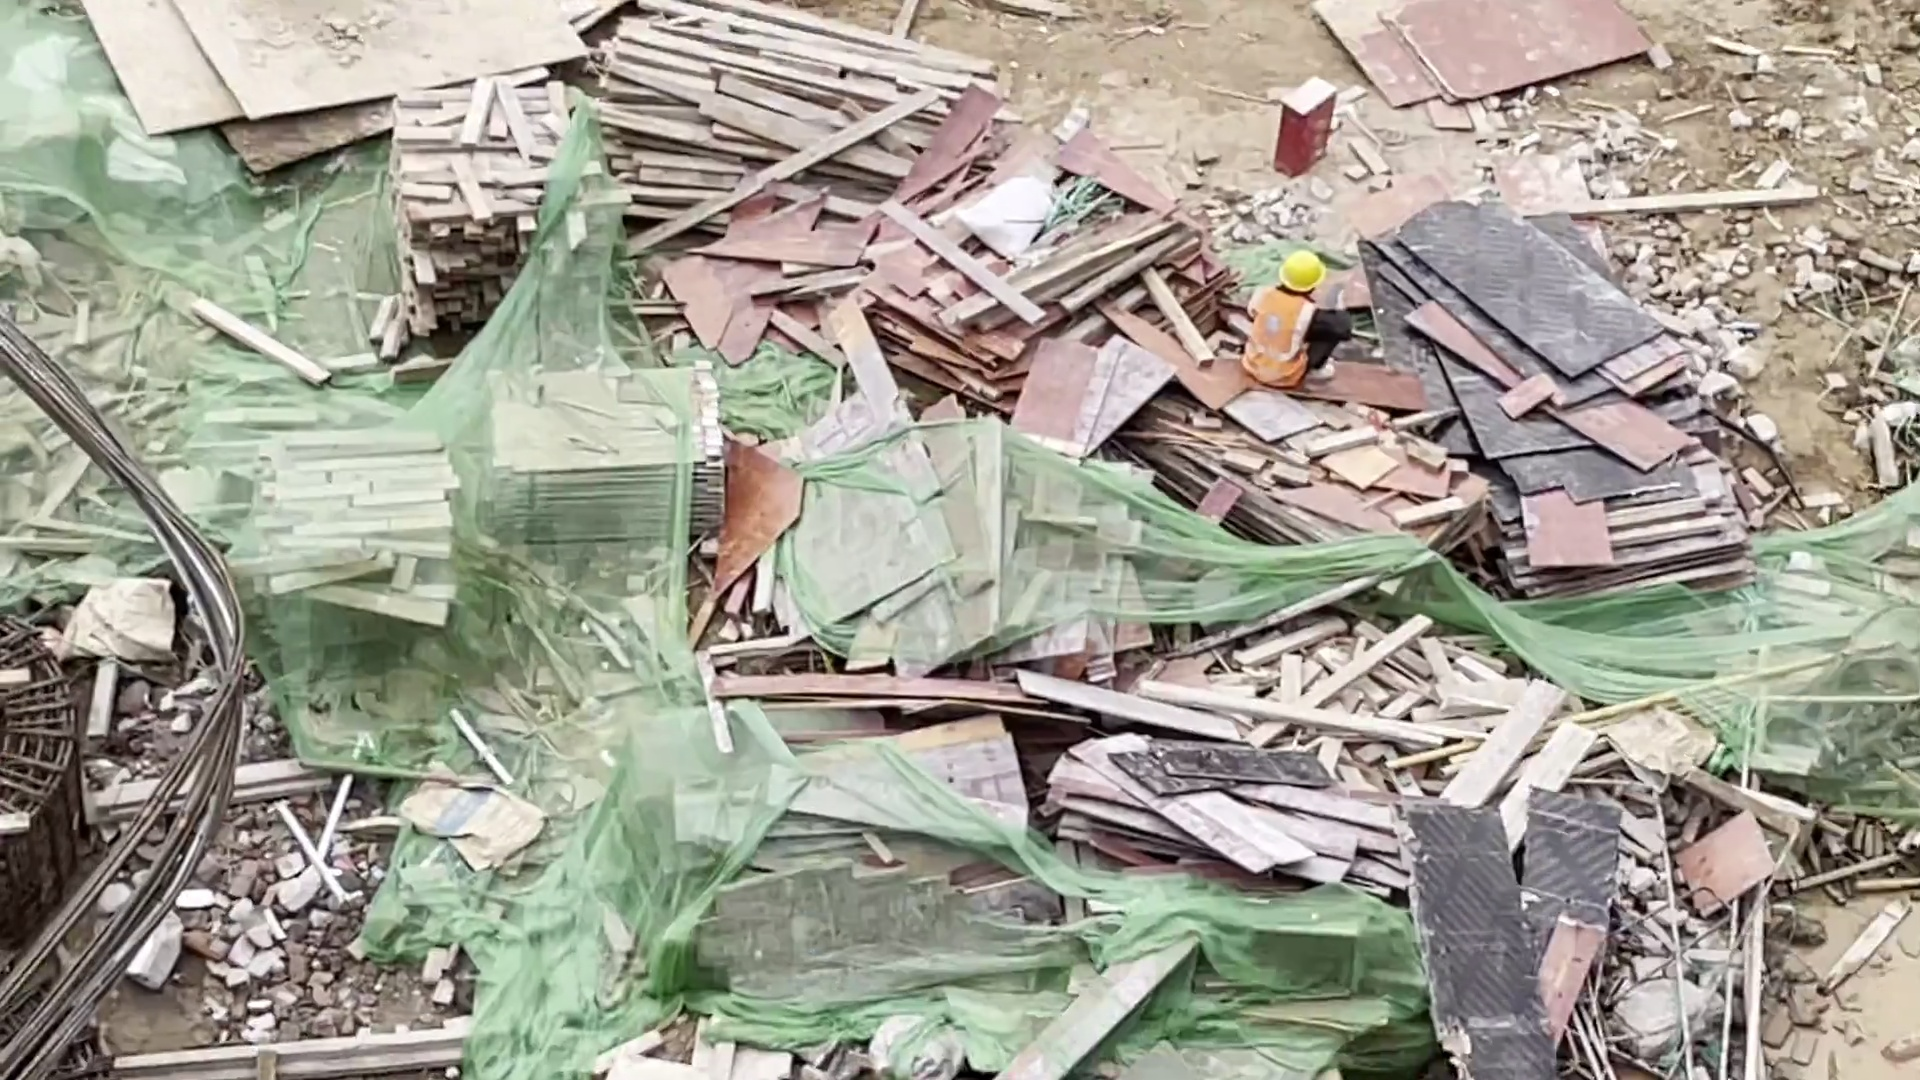helmet: (1279, 253, 1324, 289)
person: (1237, 250, 1354, 389)
vest: (1246, 280, 1313, 386)
wood: (374, 8, 954, 294), (255, 408, 718, 696)
